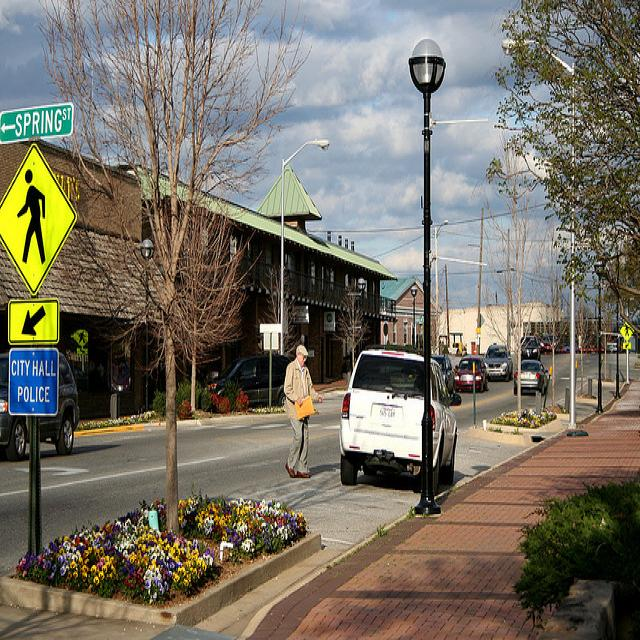Vehicle: (332, 347, 463, 483), (0, 351, 80, 462), (210, 353, 291, 414), (513, 359, 549, 397), (453, 355, 485, 391), (484, 344, 514, 382), (432, 356, 456, 392), (520, 335, 542, 362), (606, 333, 621, 351), (537, 336, 551, 352), (543, 333, 557, 348)
